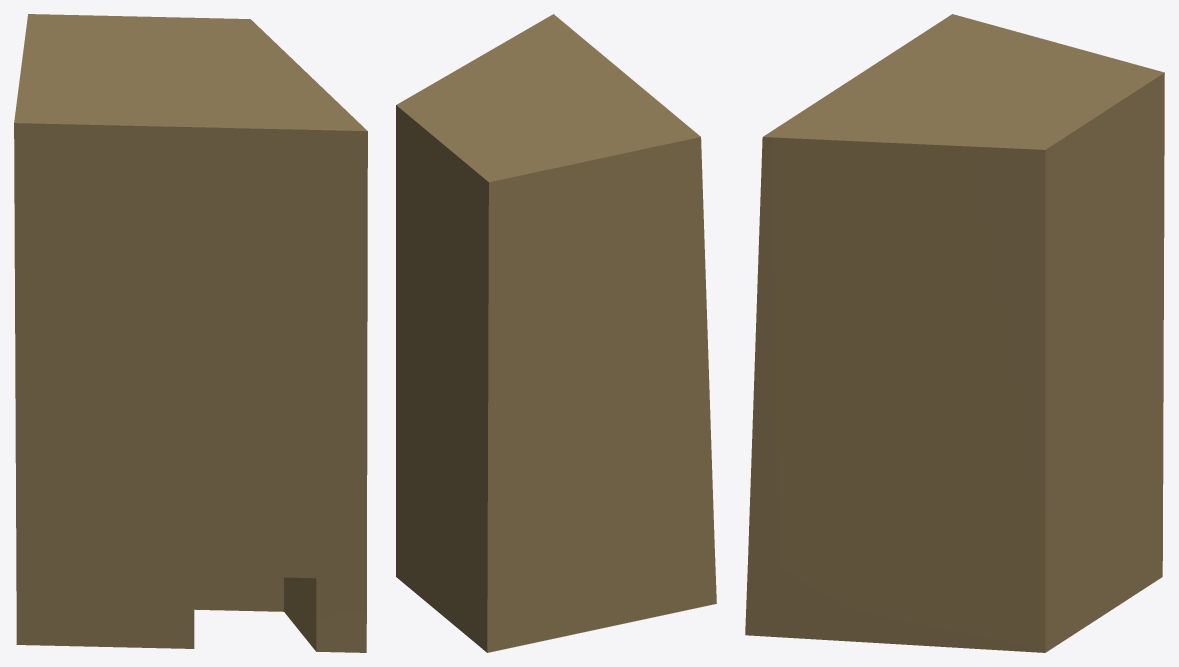
The model's file is puzzle_block_02.fbx.
The picture shows the model from 3 angles, left to right: view 1: azimuth 30°, elevation 25°; view 2: azimuth 150°, elevation 25°; view 3: azimuth 270°, elevation 25°; orthographic projection. The views are drawn at different scales.
Parts seen in each view (by area): view 1: puzzle_block_02; view 2: puzzle_block_02; view 3: puzzle_block_02.
Part boxes in pixels (<box>): puzzle_block_02: <box>14,14,367,652</box>; puzzle_block_02: <box>396,14,716,652</box>; puzzle_block_02: <box>745,14,1164,652</box>.
Bounding box in the file's own units: 64.51 × 109 × 82.08.
